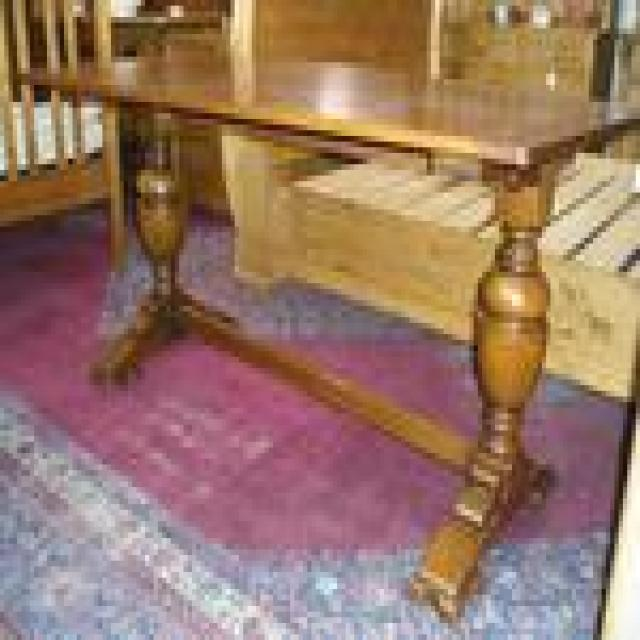table: (13, 45, 640, 623)
